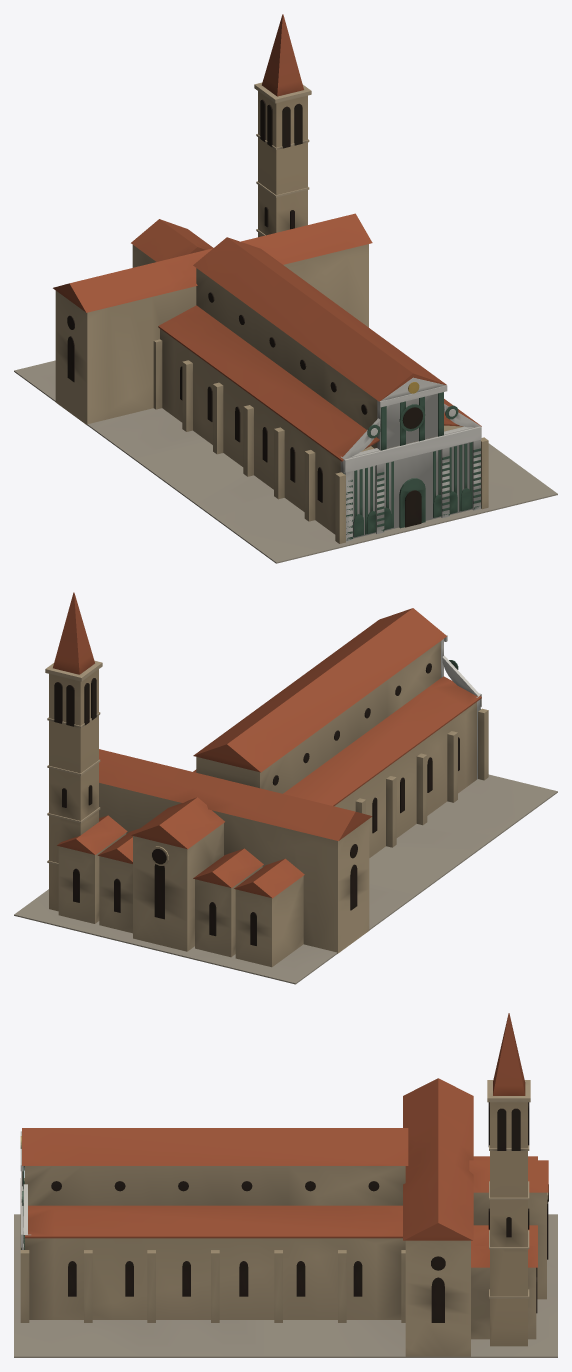
The model's file is santa-maria-novella.glb.
The picture shows the model from 3 angles, top to bottom: view 1: azimuth 30°, elevation 25°; view 2: azimuth 150°, elevation 25°; view 3: azimuth 270°, elevation 25°; orthographic projection. The views are drawn at different scales.
Parts seen in each view (by area): view 1: p0_walls, p1_roofs, p2_façade; view 2: p0_walls, p1_roofs, p2_façade; view 3: p0_walls, p1_roofs, p2_façade.
Boxes of the visible parts, box(x1,y1,x2,y2) form: p0_walls: box(14, 219, 557, 563); p1_roofs: box(53, 213, 481, 461); p2_façade: box(254, 14, 481, 541); p0_walls: box(14, 641, 557, 984); p1_roofs: box(99, 608, 481, 840); p2_façade: box(45, 592, 481, 911); p0_walls: box(14, 1156, 557, 1357); p1_roofs: box(22, 1078, 473, 1240); p2_façade: box(20, 1013, 530, 1346).
Bounding box in the file's own units: 63 × 66.24 × 100.
